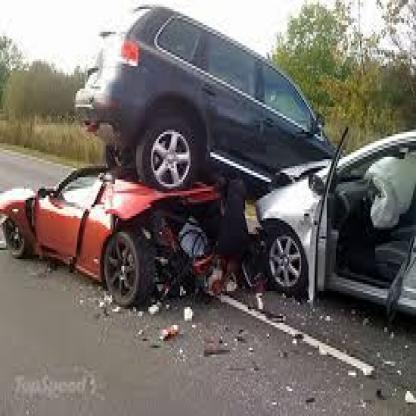accident: (6, 4, 416, 350)
